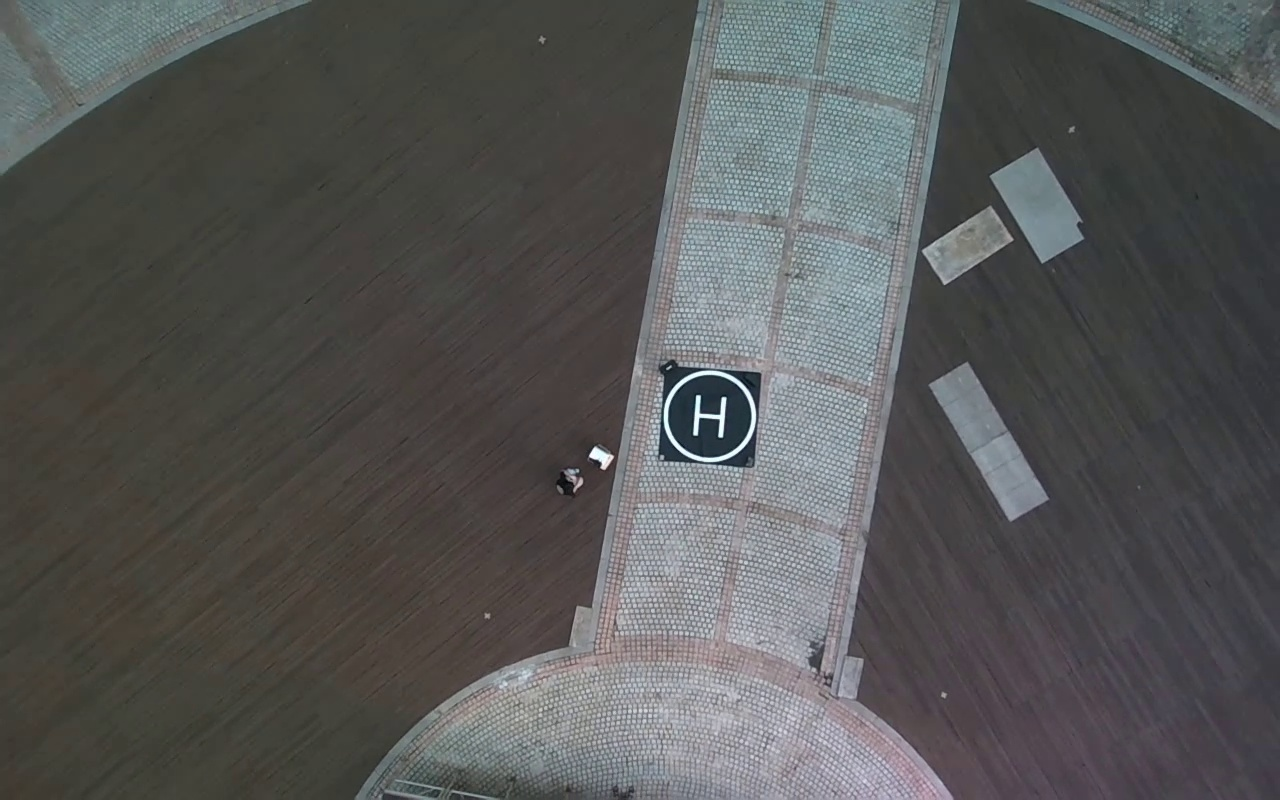H: (691, 394, 726, 441)
heliport: (663, 366, 758, 463)
